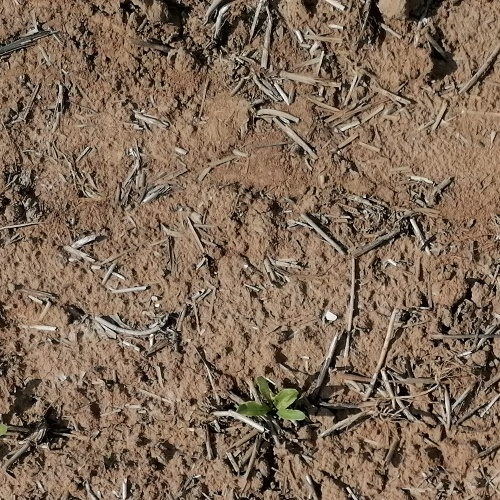beet: (237, 376, 306, 422)
